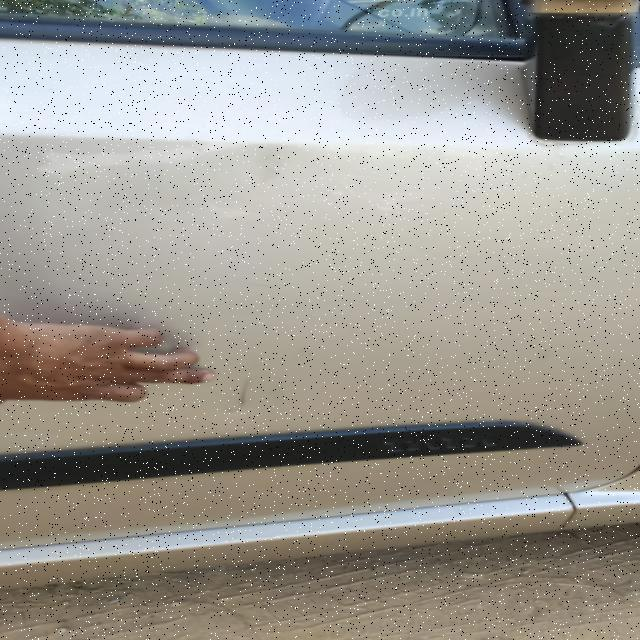doorouter-dent: (0, 35, 639, 504)
